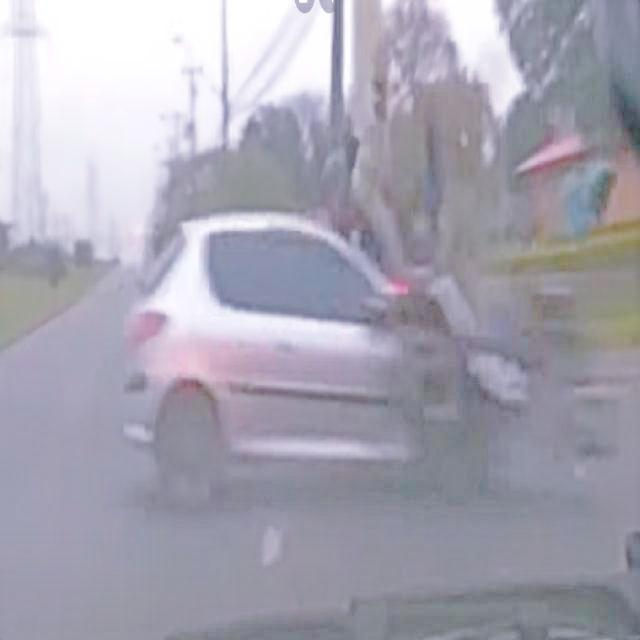Car: (132, 202, 454, 508)
Minor Accident: (126, 214, 614, 510)
Motor: (364, 247, 581, 508)
